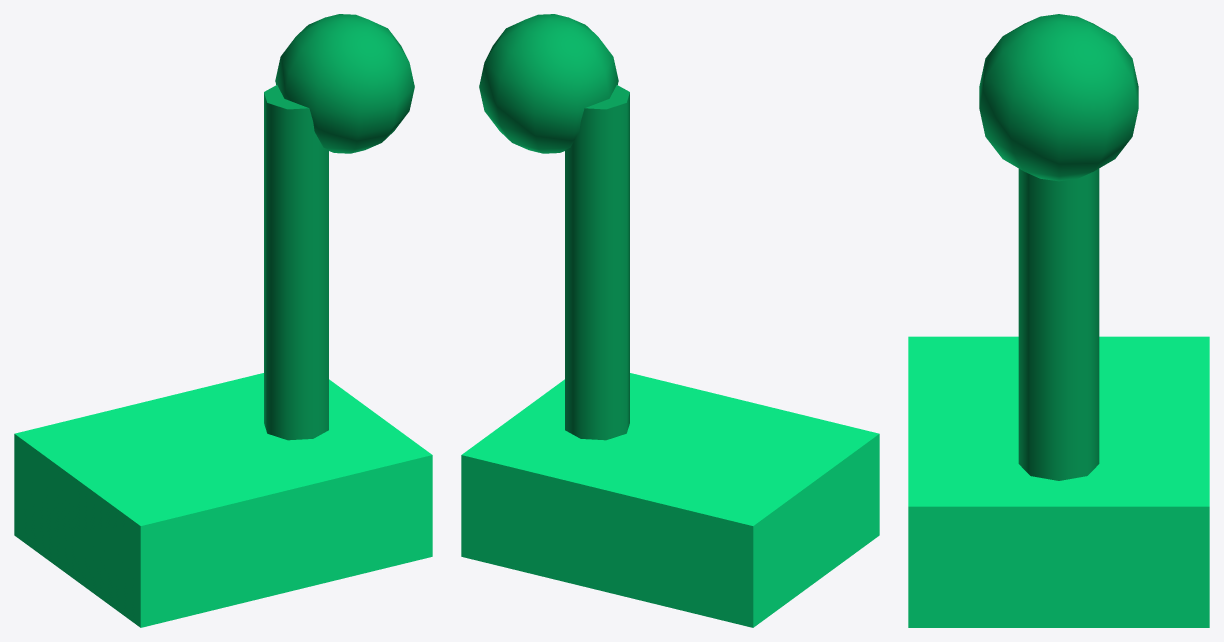
Rendered from palancas_interruptor.glb.
The picture shows the model from 3 angles, left to right: view 1: azimuth 30°, elevation 25°; view 2: azimuth 150°, elevation 25°; view 3: azimuth 270°, elevation 25°; orthographic projection. The views are drawn at different scales.
Parts seen in each view (by area): view 1: Body, Detail; view 2: Body, Detail; view 3: Body, Detail.
Boxes of the visible parts, bbox=[...] form: Body: bbox=[14, 373, 432, 627]; Detail: bbox=[264, 14, 414, 440]; Body: bbox=[461, 373, 879, 627]; Detail: bbox=[479, 14, 629, 440]; Body: bbox=[908, 336, 1209, 627]; Detail: bbox=[979, 14, 1138, 480].
Size of the model in its own units: 0.135 by 0.195 by 0.09.
